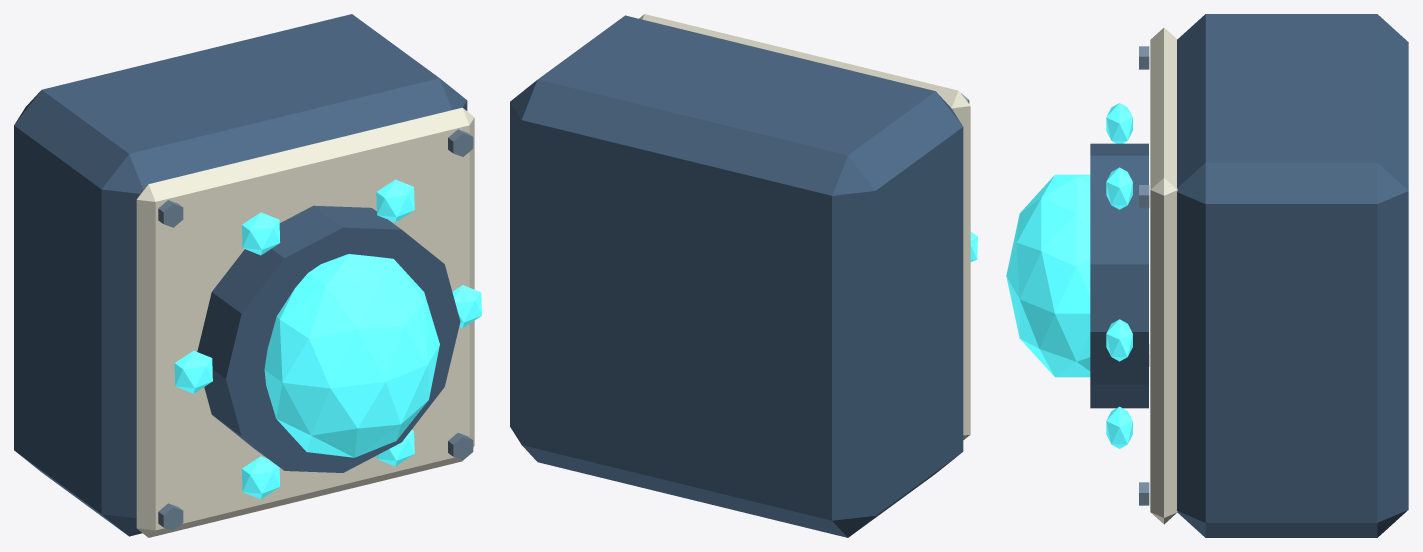
The model's file is shield.glb.
The picture shows the model from 3 angles, left to right: view 1: azimuth 30°, elevation 25°; view 2: azimuth 150°, elevation 25°; view 3: azimuth 270°, elevation 25°; orthographic projection.
Parts seen in each view (by area): view 1: Structural core.005, Front armor.005, Shield crystal, Shield projector, Emitter.001, Emitter.003, Emitter.002, Emitter.004, Emitter, Emitter.005, Rivet.028, Rivet.029; view 2: Structural core.005, Front armor.005; view 3: Structural core.005, Shield crystal, Shield projector, Front armor.005, Emitter.005, Emitter, Emitter.001, Emitter.002.
Part boxes in pixels (x1,y1,x2,y2): Structural core.005: (14,14,467,536); Front armor.005: (136,107,474,537); Shield crystal: (264,254,439,457); Shield projector: (197,205,460,472); Emitter.001: (376,179,414,222); Emitter.003: (174,350,212,393); Emitter.002: (242,212,280,255); Emitter.004: (242,456,280,499); Emitter: (452,285,481,327); Emitter.005: (377,430,414,466); Rivet.028: (158,503,183,530); Rivet.029: (158,200,183,227); Structural core.005: (510,15,963,537); Front armor.005: (639,14,970,439); Structural core.005: (1177,14,1408,537); Shield crystal: (1006,174,1090,377); Shield projector: (1090,143,1148,408); Front armor.005: (1150,27,1177,524); Emitter.005: (1106,406,1132,448); Emitter: (1106,319,1132,361); Emitter.001: (1106,167,1132,209); Emitter.002: (1106,103,1132,143).
Bounding box in the file's own units: 1.06 × 1.06 × 1.03.
